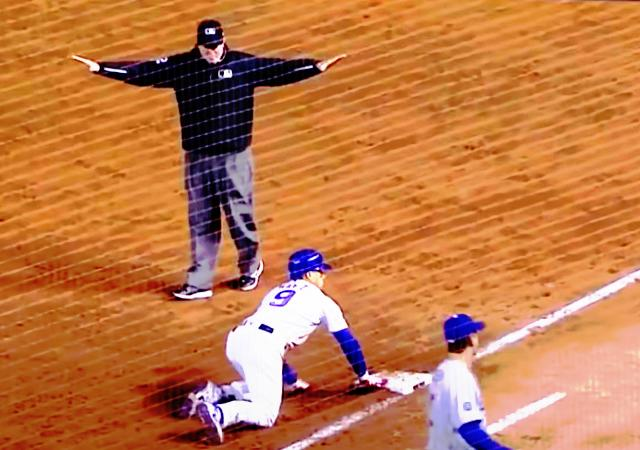jatuh: (164, 244, 392, 444)
